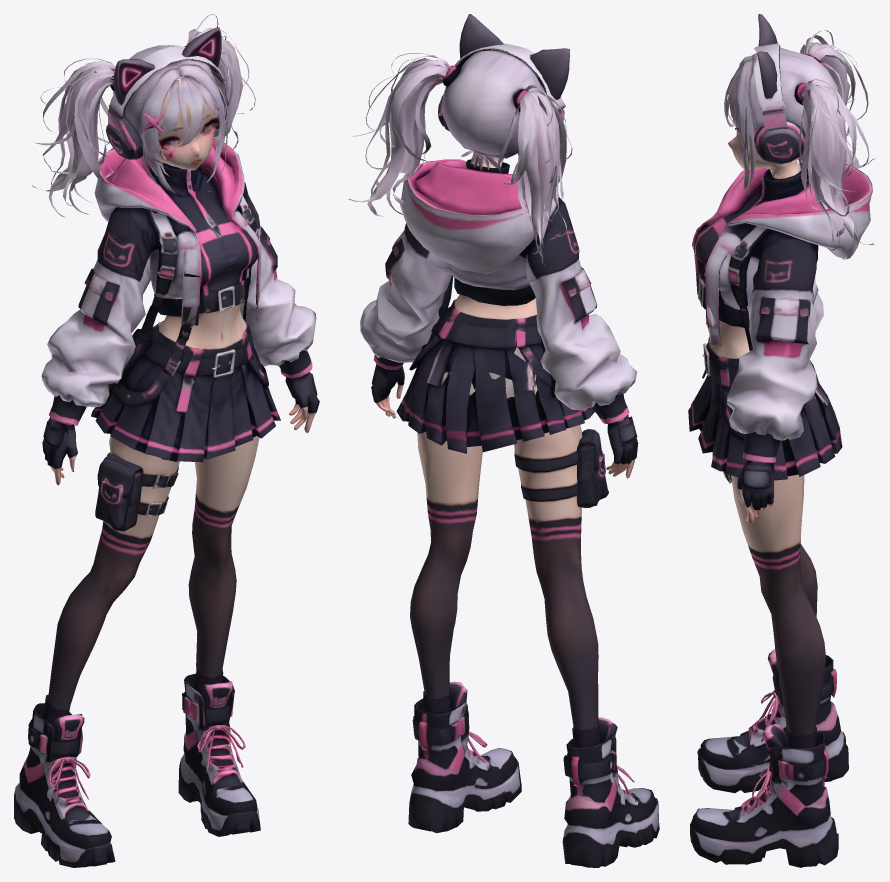
File: preview.glb
3 renders of one model, left to right at view 1: azimuth 30°, elevation 25°; view 2: azimuth 150°, elevation 25°; view 3: azimuth 270°, elevation 25°, orthographic.
Parts seen in each view (by area): view 1: geometry_0; view 2: geometry_0; view 3: geometry_0.
Boxes of the visible parts, left/top/right/bottom form: geometry_0: left=14, top=14, right=319, bottom=867; geometry_0: left=348, top=14, right=659, bottom=867; geometry_0: left=688, top=14, right=875, bottom=867.
Size of the model in its own units: 0.3423 by 0.9507 by 0.2017.
Materials: 1 (1 with a texture image).
